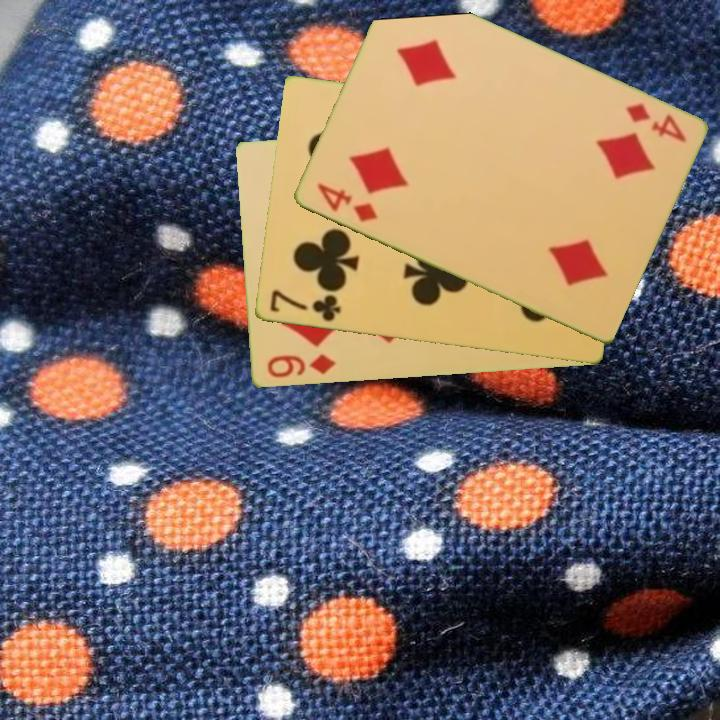4d: (621, 100, 689, 146), (313, 180, 380, 226)
7c: (266, 286, 343, 325)
9d: (263, 351, 339, 381)
